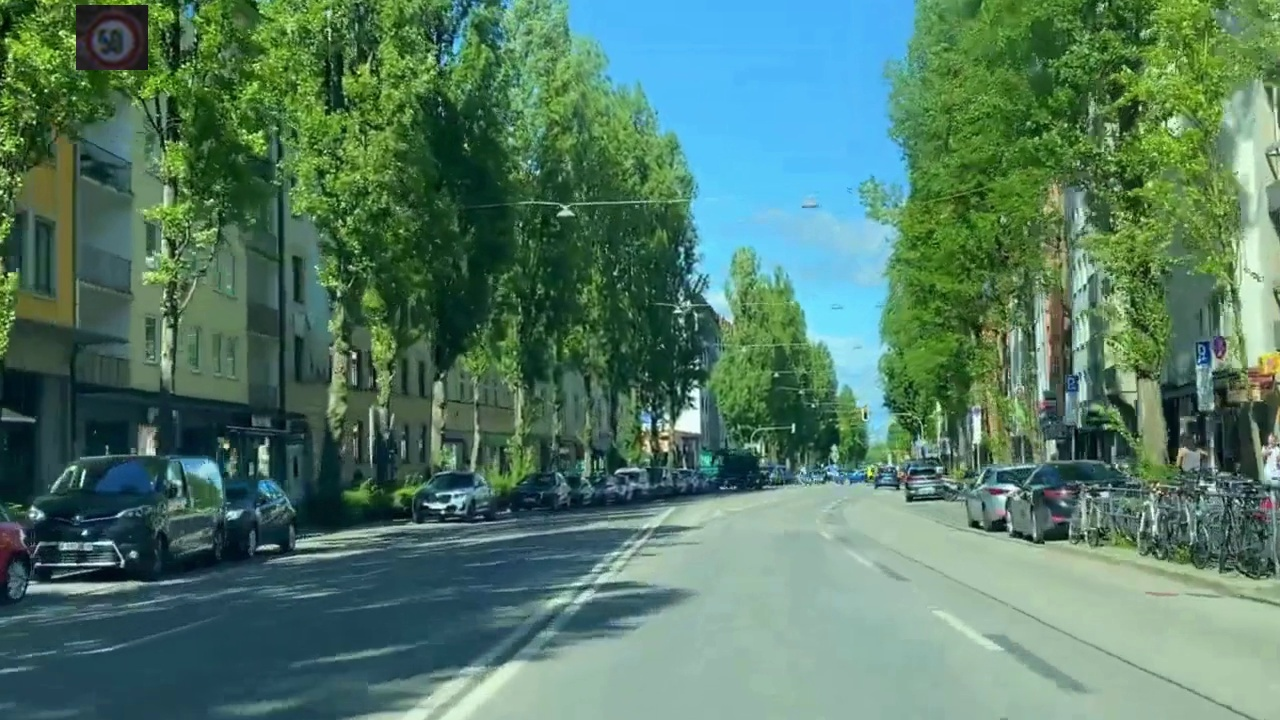Speed 50: (76, 5, 148, 70)
